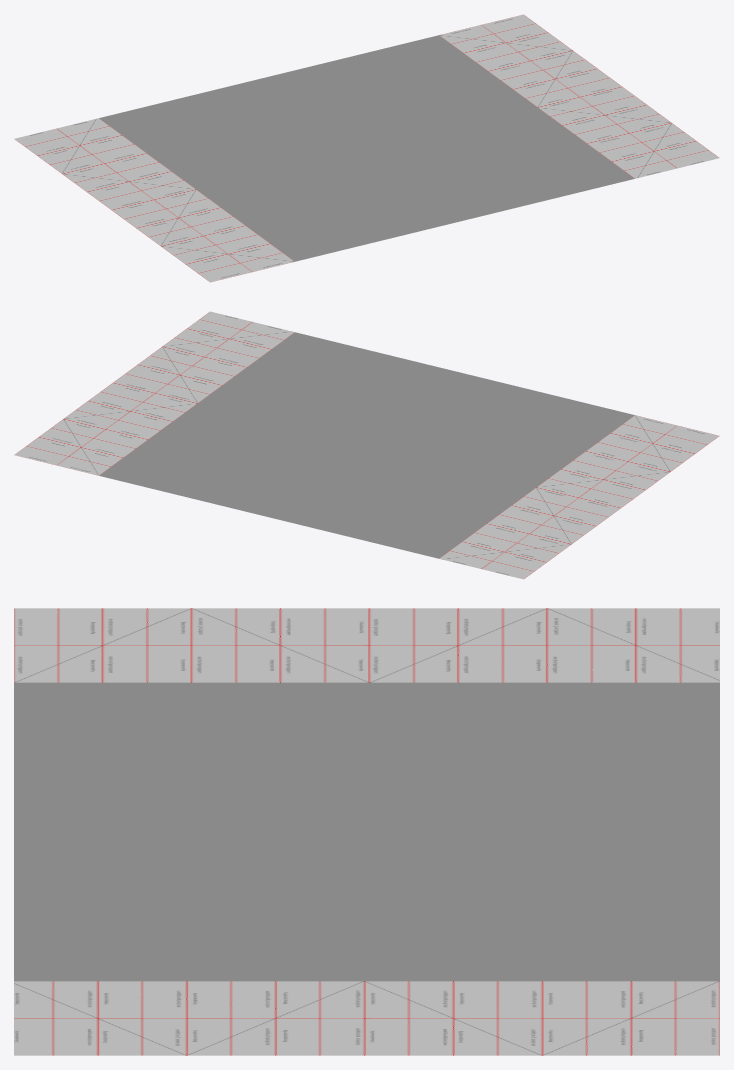
The model's file is air_parking_a.FBX.
The picture shows the model from 3 angles, top to bottom: view 1: azimuth 30°, elevation 25°; view 2: azimuth 150°, elevation 25°; view 3: azimuth 270°, elevation 25°; orthographic projection. The views are drawn at different scales.
Parts seen in each view (by area): view 1: air_parking_a; view 2: air_parking_a; view 3: air_parking_a.
Part boxes in pixels (<box>): air_parking_a: <box>14,14,719,282</box>; air_parking_a: <box>14,311,719,579</box>; air_parking_a: <box>14,608,719,1055</box>.
Bounding box in the file's own units: 120 × 5.79e-05 × 80.
